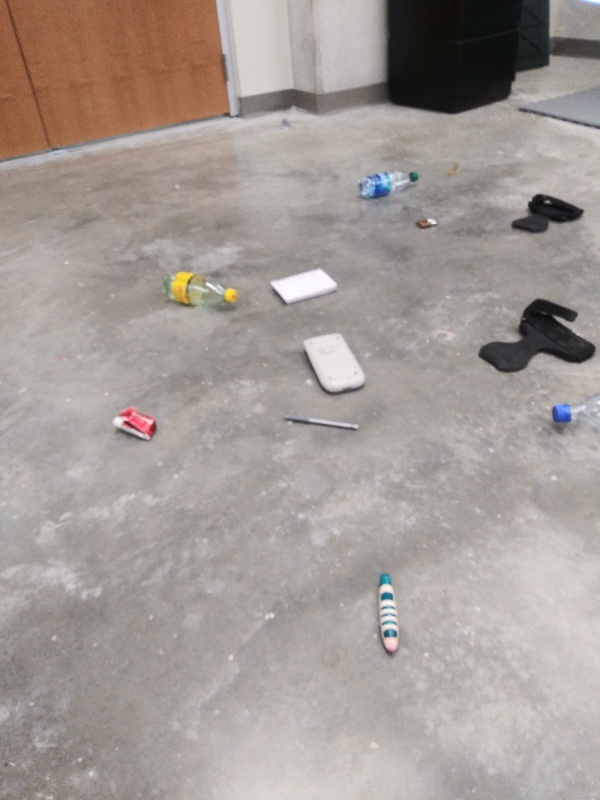bottle: (161, 266, 242, 317), (547, 386, 600, 437), (352, 167, 424, 202)
